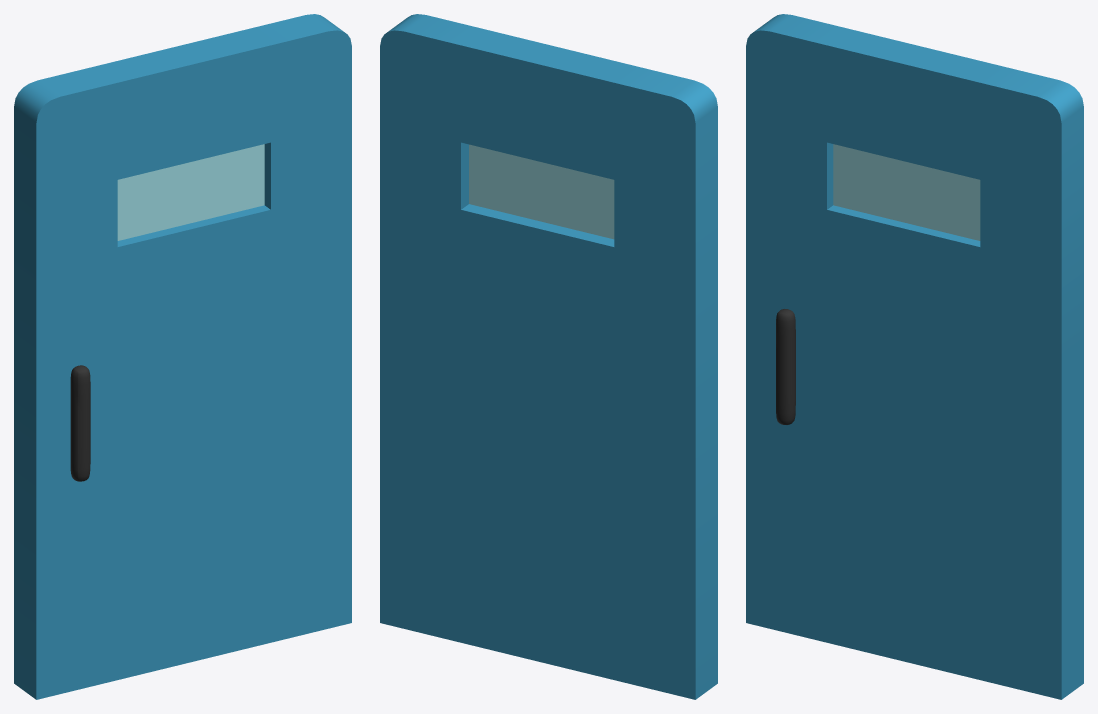
File: men.FBX
3 renders of one model, left to right at view 1: azimuth 30°, elevation 25°; view 2: azimuth 150°, elevation 25°; view 3: azimuth 330°, elevation 25°, orthographic.
Parts seen in each view (by area): view 1: men; view 2: men; view 3: men.
Part boxes in pixels (<box>): men: <box>14,14,351,699</box>; men: <box>380,14,717,699</box>; men: <box>746,14,1083,699</box>.
Bounding box in the file's own units: 47.84 × 86.57 × 7.76.
